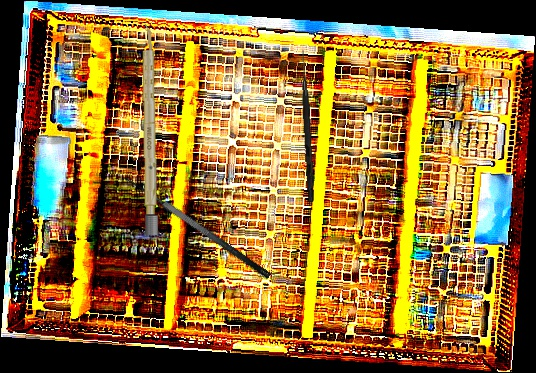Hook Surgical: (297, 49, 317, 203)
Scalpel Handle: (141, 23, 158, 236)
Spatula Surgical: (115, 168, 273, 293)
